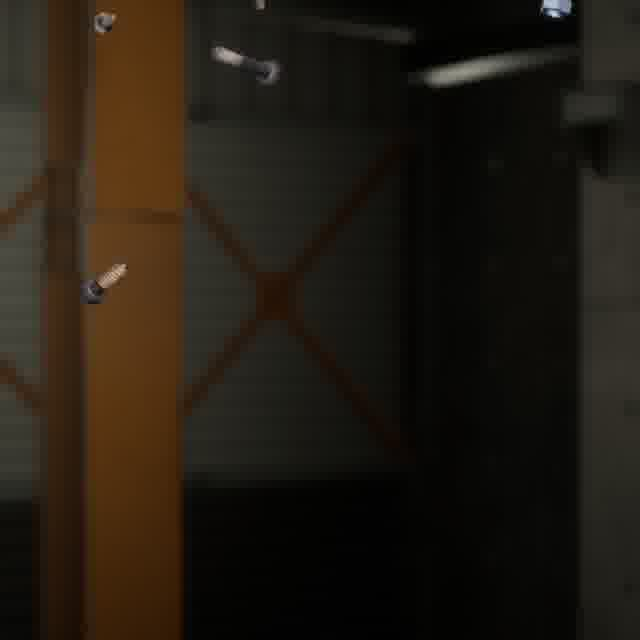bolt: (206, 41, 286, 90), (74, 256, 132, 309), (88, 7, 120, 38)
nut: (535, 0, 576, 23)
